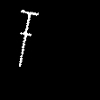double_crochet: (19, 10, 37, 65)
